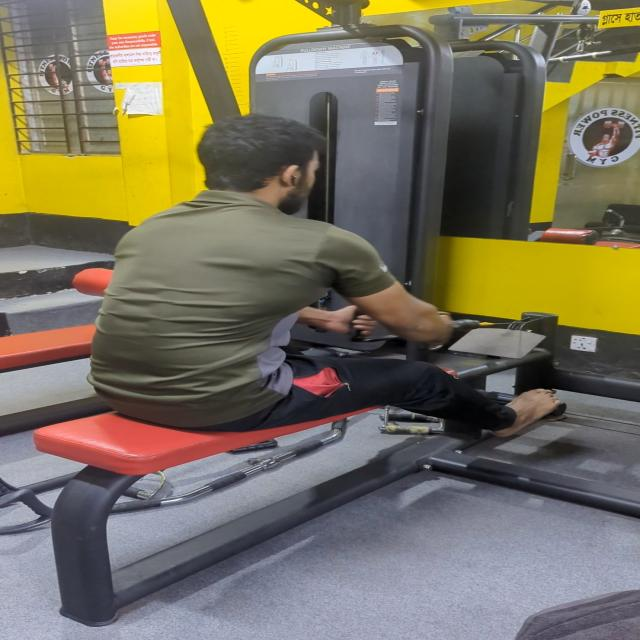Normal_RowingMachineExercise: (23, 116, 640, 473)
